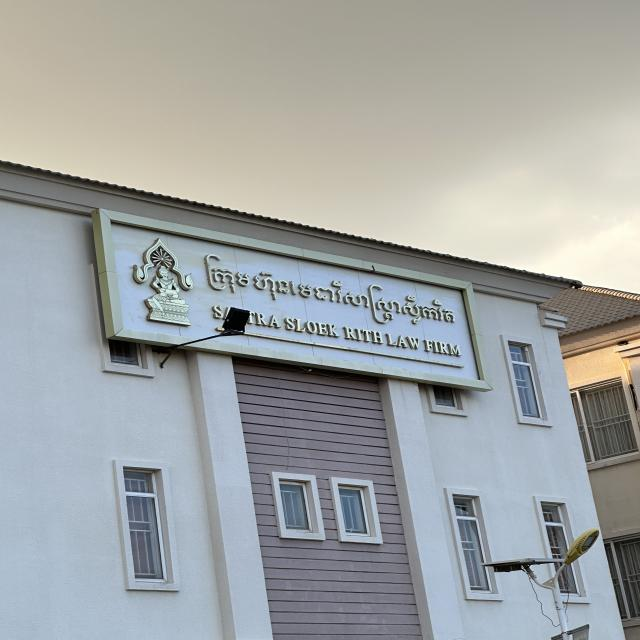Yolov11_80vkh: (190, 253, 462, 334)
